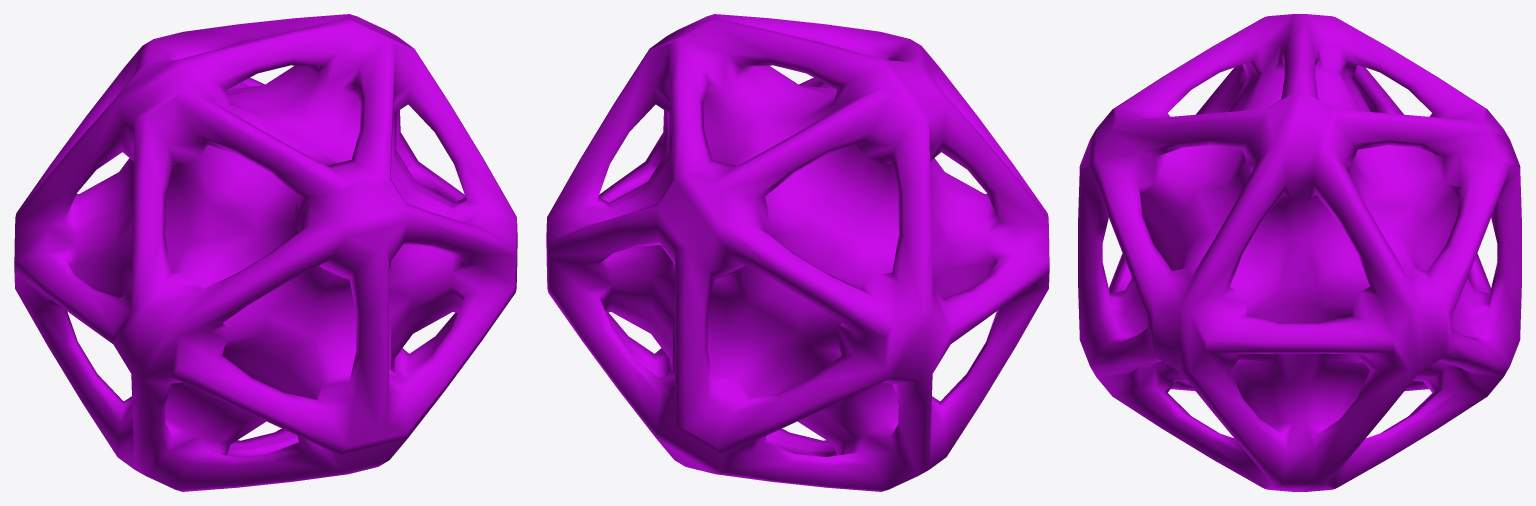
File: dode1.fbx
3 views of the same model, side by side, from view 1: azimuth 30°, elevation 25°; view 2: azimuth 150°, elevation 25°; view 3: azimuth 270°, elevation 25° (orthographic). The views are drawn at different scales.
Visible parts, largest first — view 1: great_dodecahedron_organic_shape_with_holes_1:Mesh_GreatDode; view 2: great_dodecahedron_organic_shape_with_holes_1:Mesh_GreatDode; view 3: great_dodecahedron_organic_shape_with_holes_1:Mesh_GreatDode.
Part boxes in pixels (x1=…): great_dodecahedron_organic_shape_with_holes_1:Mesh_GreatDode: x1=14, y1=14, x2=517, y2=491; great_dodecahedron_organic_shape_with_holes_1:Mesh_GreatDode: x1=546, y1=14, x2=1049, y2=491; great_dodecahedron_organic_shape_with_holes_1:Mesh_GreatDode: x1=1078, y1=14, x2=1521, y2=491.
Size of the model in its own units: 31.2 by 31.2 by 31.2.
